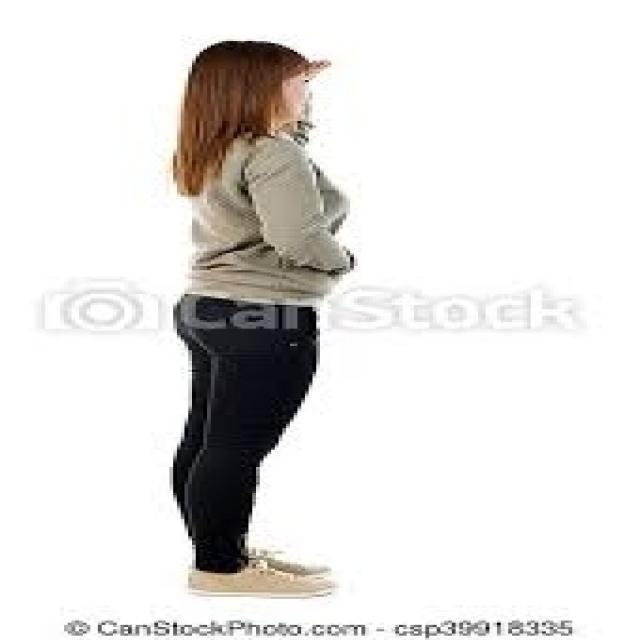walking: (68, 24, 422, 608)
